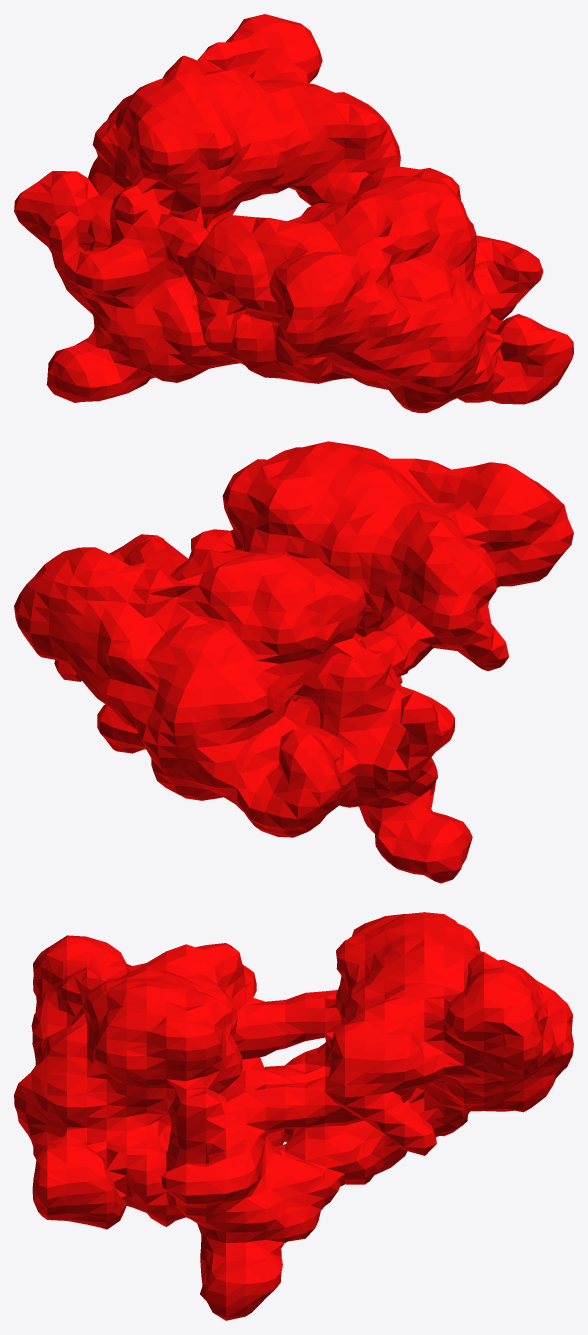
The model's file is ffh_coarse.dae.
3 views of the same model, one above another, from view 1: azimuth 30°, elevation 25°; view 2: azimuth 150°, elevation 25°; view 3: azimuth 270°, elevation 25° (orthographic). The views are drawn at different scales.
Parts seen in each view (by area): view 1: ffh; view 2: ffh; view 3: ffh.
Part boxes in pixels (x1,y1,x2,y2): ffh: [14, 14, 573, 412]; ffh: [14, 441, 573, 883]; ffh: [14, 912, 573, 1320].
Size of the model in its own units: 125 by 90.81 by 154.
